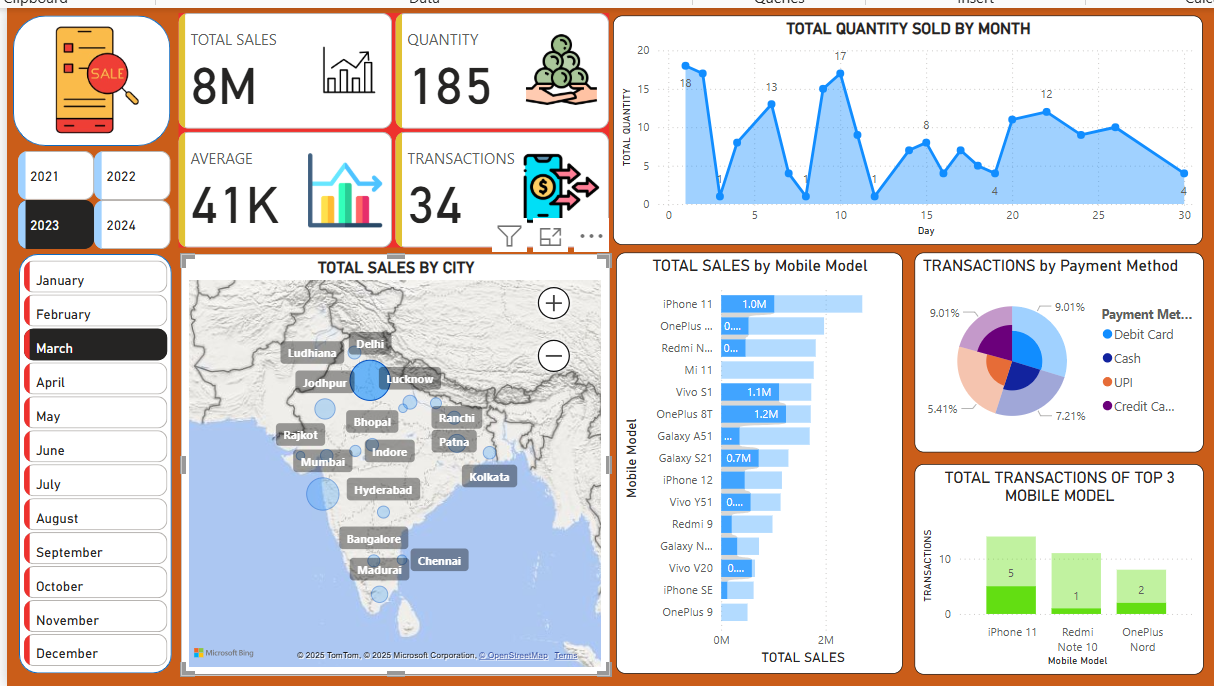

What the dashboard file says about the page in this screenshot:
{"tool":"powerbi","page":{"name":"Page 1","canvas":[1280,720],"ordinal":0},"visuals":[{"type":"shape","box":[12.1,260.3,162.1,444.8],"z":0},{"type":"advancedSlicerVisual","fields":{"Values":["Sales data.Date.Variation.Date Hierarchy.Month"]},"box":[12.1,262.1,162.1,443.1],"z":1000},{"type":"cardVisual","fields":{"Data":["Sales data.TOTAL SALES","Sales data.TOTAL QUANTITY","Sales data.AVERAGE","Sales data.TRANSACTIONS"]},"box":[176,0,468,260],"z":2000},{"type":"map","title":"TOTAL SALES BY CITY      ","fields":{"Category":["Sales data.City"],"Size":["Sales data.TOTAL SALES"]},"box":[184,260,456,446],"z":3000},{"type":"lineChart","title":"TOTAL QUANTITY SOLD BY MONTH","fields":{"Y":["Sales data.TOTAL QUANTITY"],"Category":["Sales data.Date.Variation.Date Hierarchy.Month","Sales data.Date.Variation.Date Hierarchy.Day"]},"box":[643.3,8.3,625,243.3],"z":4000},{"type":"clusteredColumnChart","title":"TOTAL TRANSACTIONS OF TOP 3 MOBILE MODEL","fields":{"Category":["Sales data.Mobile Model"],"Y":["Sales data.TRANSACTIONS"]},"box":[961.7,483.3,306.7,223.3],"z":5000},{"type":"pieChart","fields":{"Category":["Sales data.Payment Method"],"Y":["Sales data.TRANSACTIONS"]},"box":[961.7,260,306.7,211.7],"z":6000},{"type":"barChart","fields":{"Category":["Sales data.Mobile Model"],"Y":["Sales data.TOTAL SALES"]},"box":[645,261.7,305,443.3],"z":7000},{"type":"advancedSlicerVisual","fields":{"Values":["Sales data.Date.Variation.Date Hierarchy.Year"]},"box":[6.7,146.7,173.3,115],"z":8000},{"type":"shape","box":[6.7,8.3,166.7,138.3],"z":9000},{"type":"image","box":[15,8.3,158.3,135],"z":9001}]}

Visuals, with their boxes on the page's 1280x720 design canvas (x1, y1, x2, y2). These are canvas units, not pixel positions in the 1214x686 screenshot, which may show the page scaled, cropped or inside an application window:
shape: BBox(12, 260, 174, 705)
advancedSlicerVisual - Sales data.Date.Variation.Date Hierarchy.Month: BBox(12, 262, 174, 705)
cardVisual - Sales data.TOTAL SALES x Sales data.TOTAL QUANTITY: BBox(176, 0, 644, 260)
"TOTAL SALES BY CITY      " map: BBox(184, 260, 640, 706)
"TOTAL QUANTITY SOLD BY MONTH" lineChart: BBox(643, 8, 1268, 252)
"TOTAL TRANSACTIONS OF TOP 3 MOBILE MODEL" clusteredColumnChart: BBox(962, 483, 1268, 707)
pieChart - Sales data.Payment Method x Sales data.TRANSACTIONS: BBox(962, 260, 1268, 472)
barChart - Sales data.Mobile Model x Sales data.TOTAL SALES: BBox(645, 262, 950, 705)
advancedSlicerVisual - Sales data.Date.Variation.Date Hierarchy.Year: BBox(7, 147, 180, 262)
shape: BBox(7, 8, 173, 147)
image: BBox(15, 8, 173, 143)
